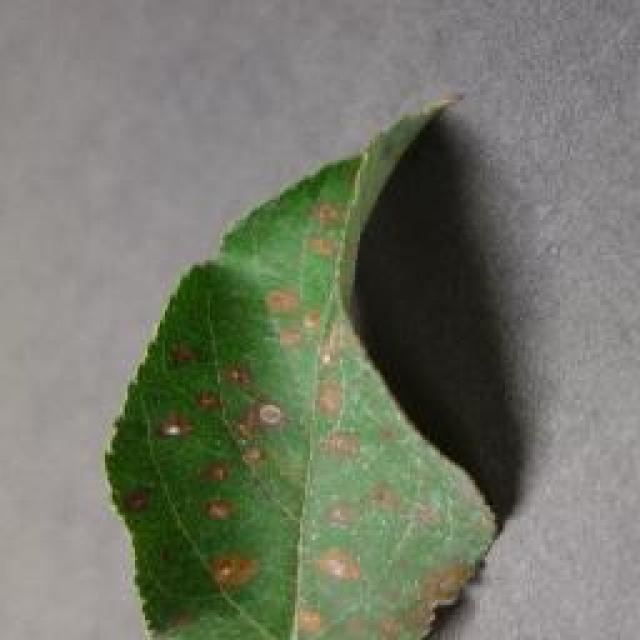Apple___Cedar_apple_rust: (88, 332, 407, 640)
